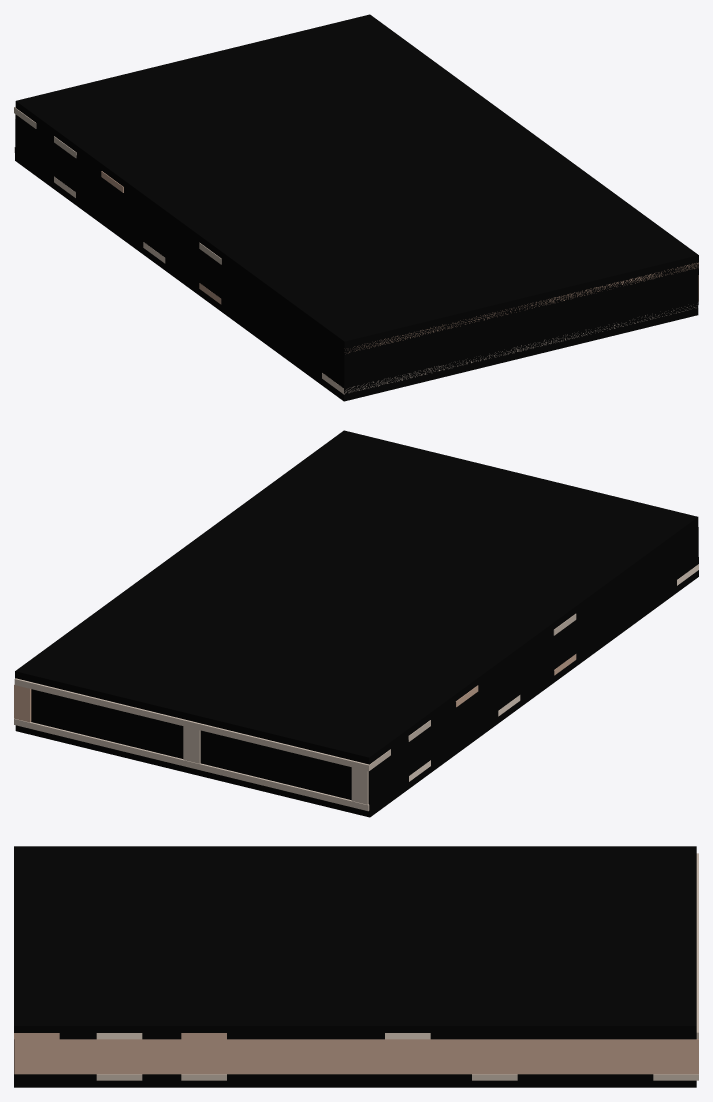
Rendered from pallet.dae.
3 views of the same model, one above another, from view 1: azimuth 30°, elevation 25°; view 2: azimuth 150°, elevation 25°; view 3: azimuth 270°, elevation 25° (orthographic). The views are drawn at different scales.
Parts seen in each view (by area): view 1: Colmesh-1, pallet_a025, pallet_a200; view 2: Colmesh-1, pallet_a025, pallet_a200, pallet_a050; view 3: Colmesh-1, pallet_a200, pallet_a025, pallet_a050.
Boxes of the visible parts, box(x1,y1,x2,y2) form: Colmesh-1: box(15, 14, 698, 401); pallet_a025: box(15, 131, 698, 394); pallet_a200: box(14, 107, 698, 394); Colmesh-1: box(15, 430, 698, 817); pallet_a025: box(31, 547, 698, 810); pallet_a200: box(14, 564, 698, 811); pallet_a050: box(15, 613, 575, 804); Colmesh-1: box(14, 846, 696, 1087); pallet_a200: box(14, 1032, 698, 1080); pallet_a025: box(14, 1033, 696, 1056); pallet_a050: box(696, 853, 698, 1032).
Size of the model in its own units: 1.1 by 1.77 by 0.1773.
